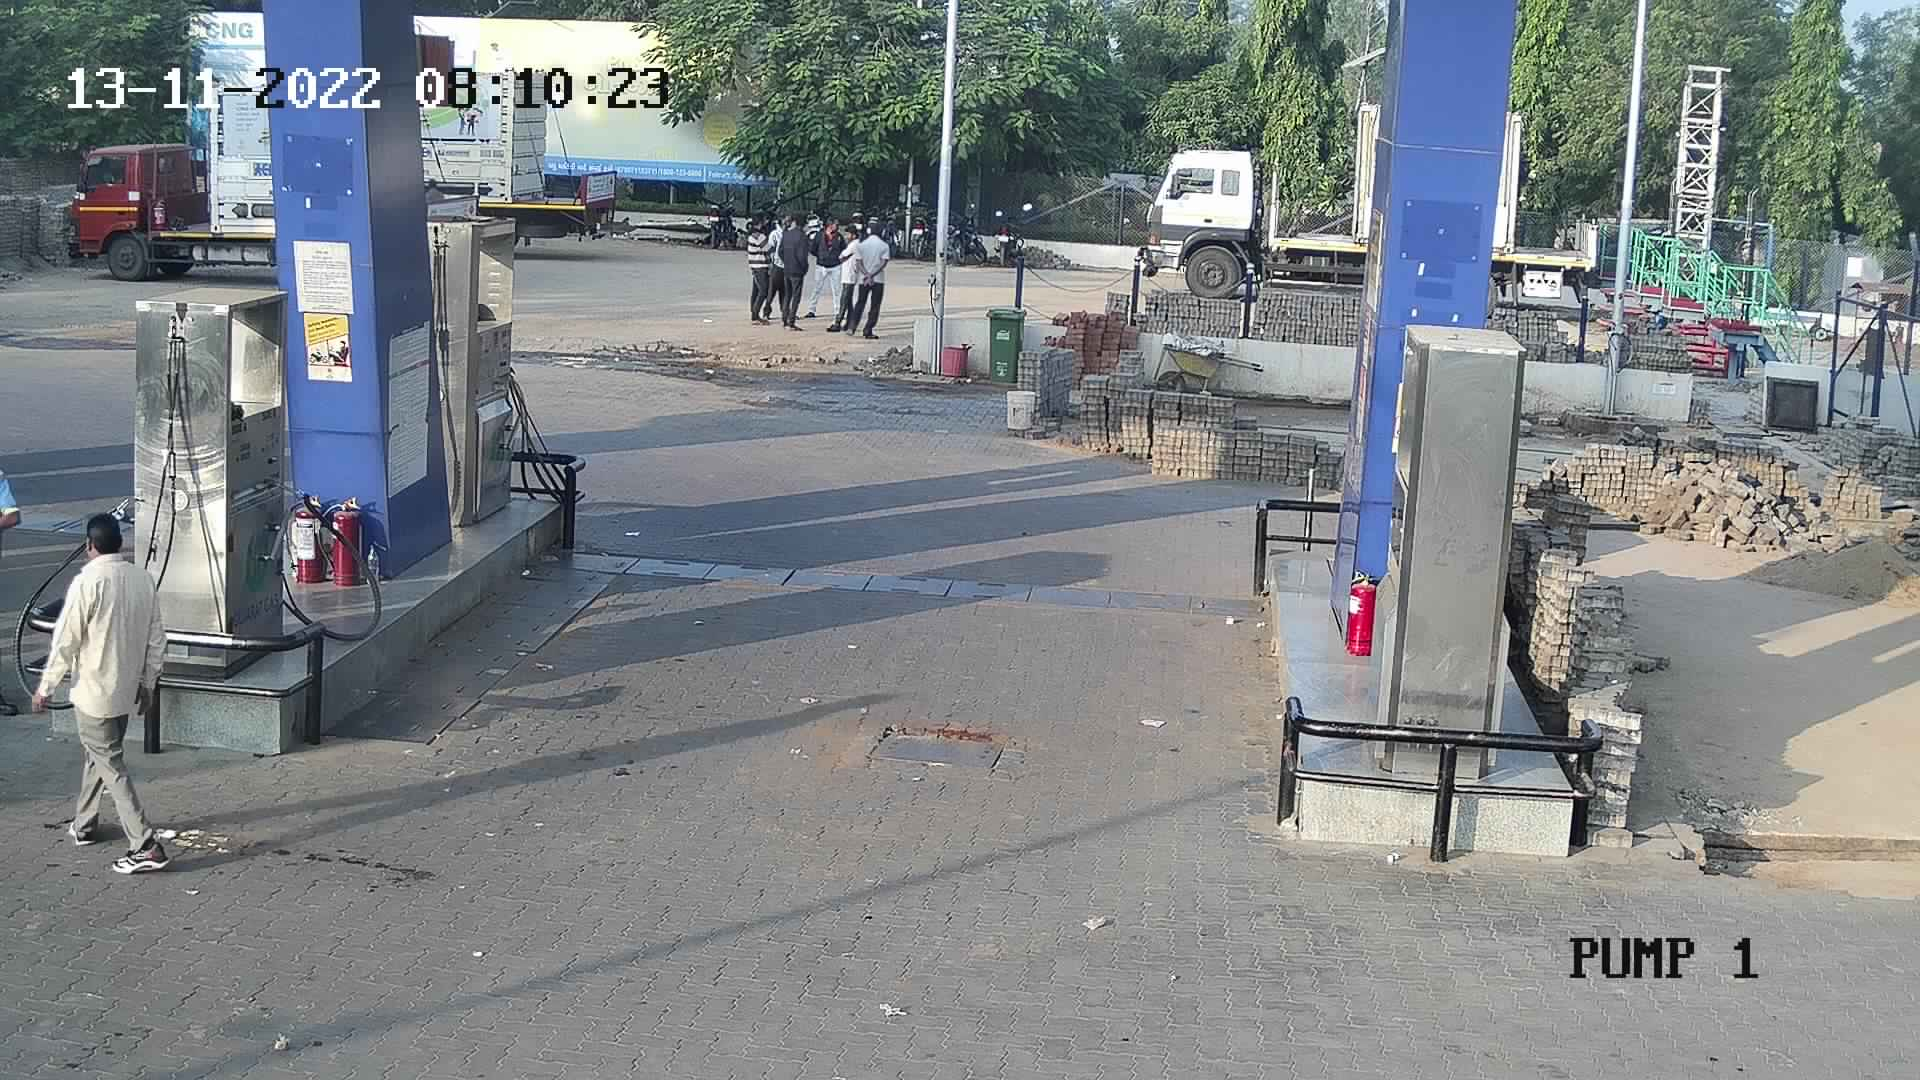Bike: (944, 200, 990, 269), (898, 187, 938, 264), (988, 203, 1034, 266), (702, 187, 746, 252), (800, 182, 833, 247)
HMV: (1124, 98, 1385, 301), (51, 74, 284, 284), (398, 57, 626, 260)
Others: (0, 427, 36, 732)
